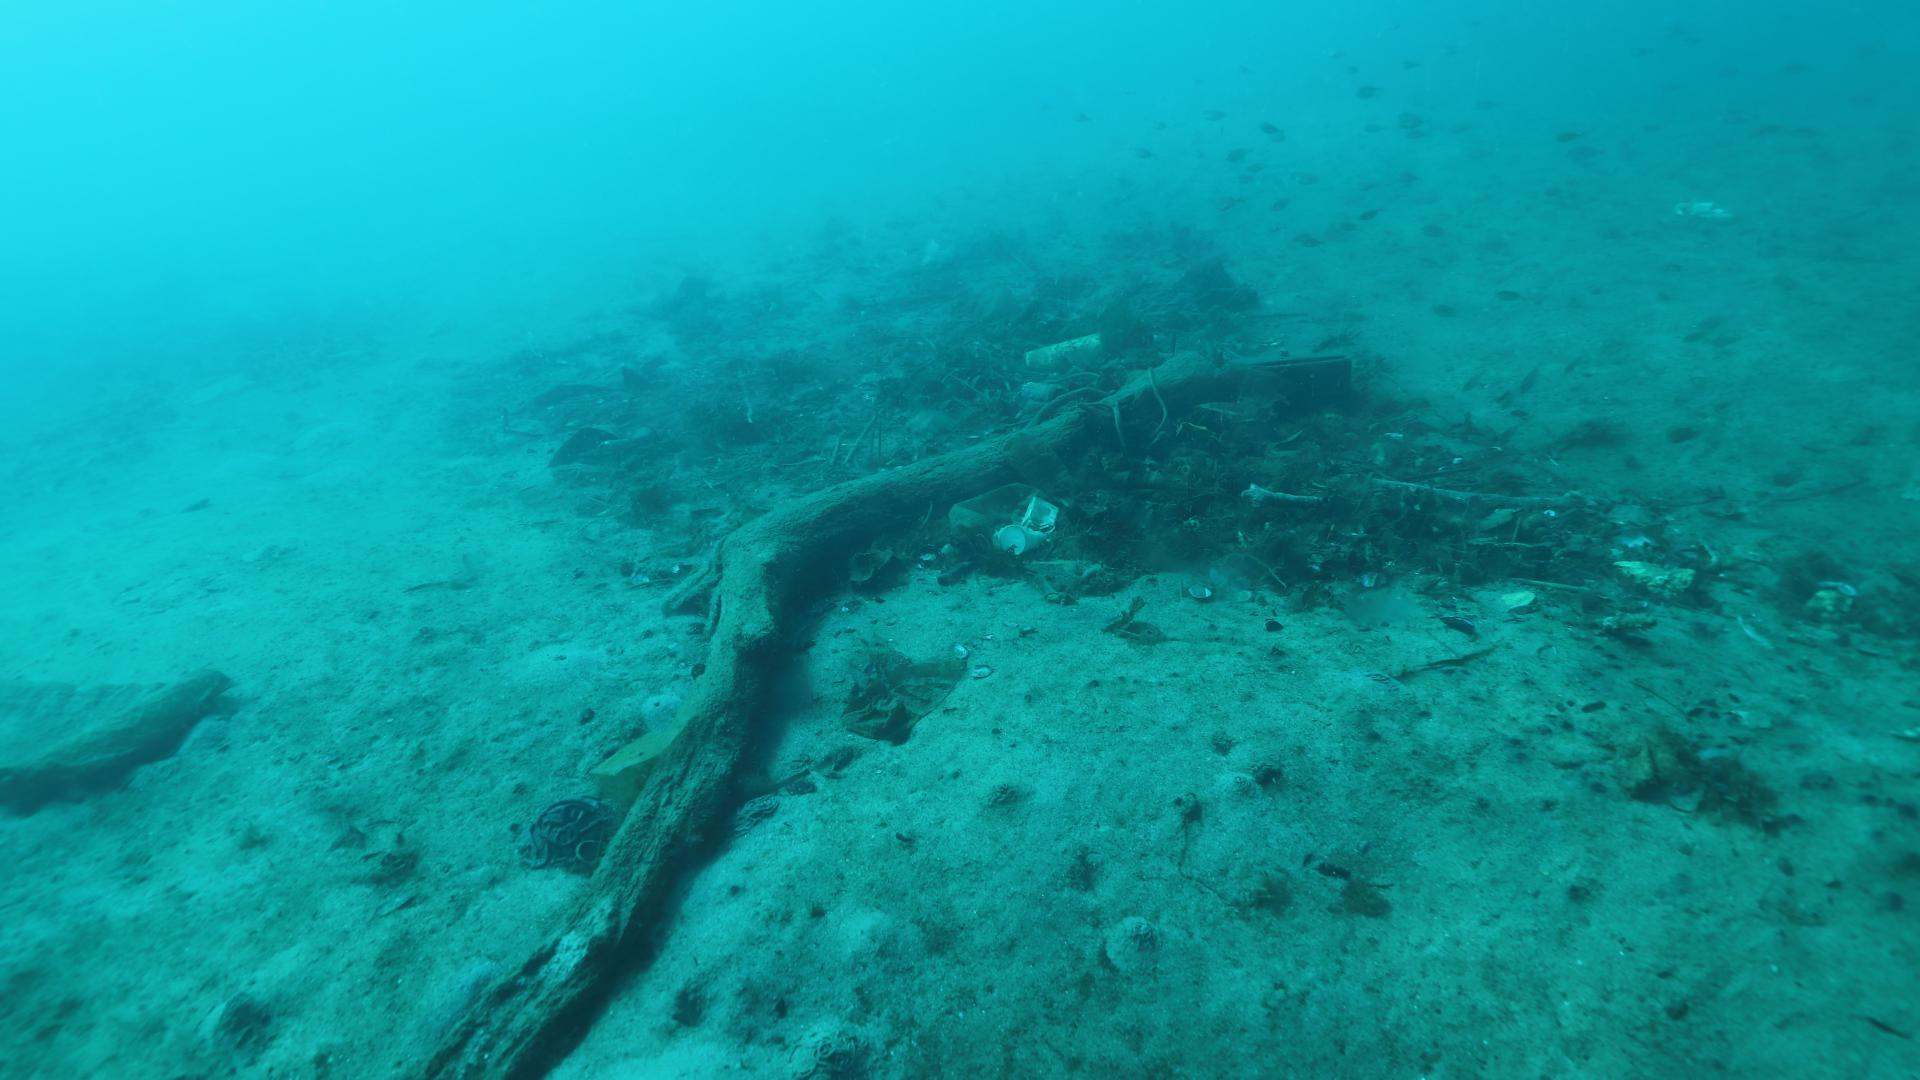wood: (431, 349, 1216, 1080)
